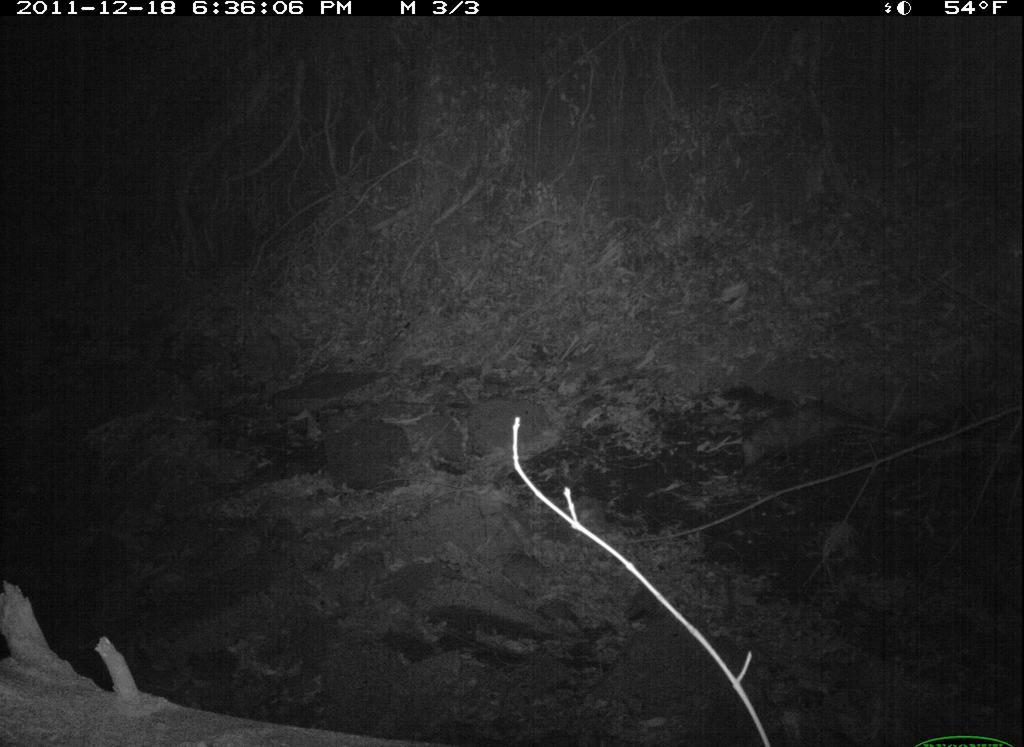opossum: (738, 397, 909, 474)
